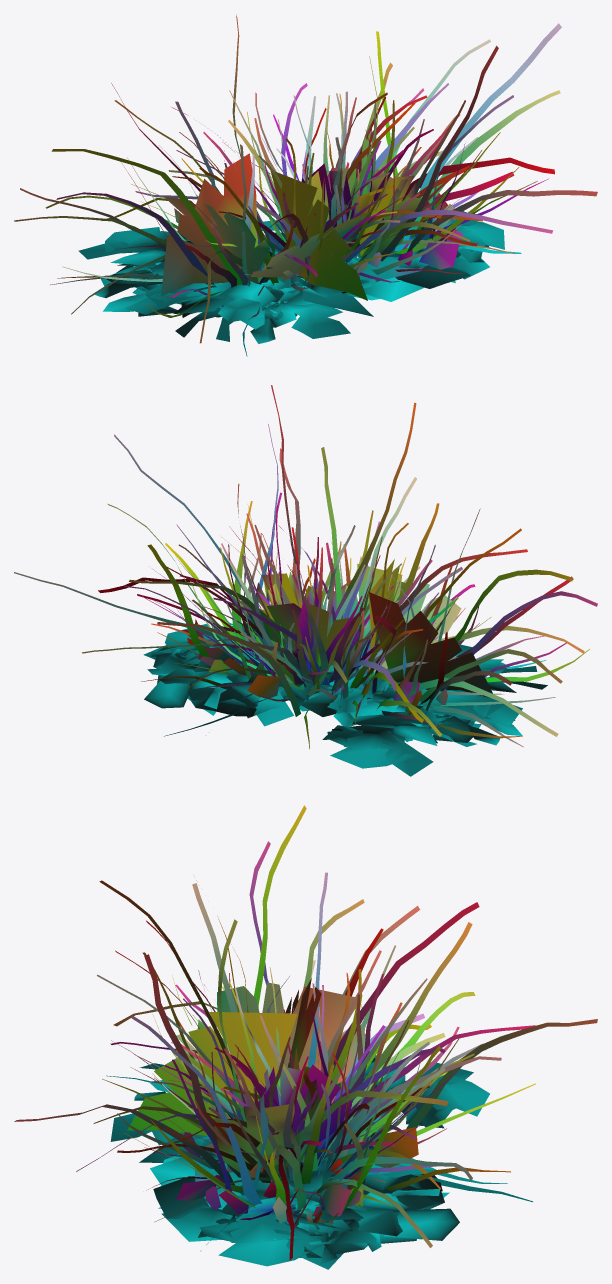
The model's file is Wild_Grass_vczndjqja_Mid_vczndjqja_VarF_LOD1.fbx.
3 renders of one model, top to bottom at view 1: azimuth 30°, elevation 25°; view 2: azimuth 150°, elevation 25°; view 3: azimuth 270°, elevation 25°, orthographic. The views are drawn at different scales.
Visible parts, largest first — view 1: _rcxt_VarF_LOD2; view 2: _rcxt_VarF_LOD2; view 3: _rcxt_VarF_LOD2.
Boxes of the visible parts, bbox=[...] form: _rcxt_VarF_LOD2: bbox=[14, 14, 597, 356]; _rcxt_VarF_LOD2: bbox=[14, 385, 597, 776]; _rcxt_VarF_LOD2: bbox=[14, 805, 597, 1269].
Bounding box in the file's own units: 123 × 53.32 × 99.77.
